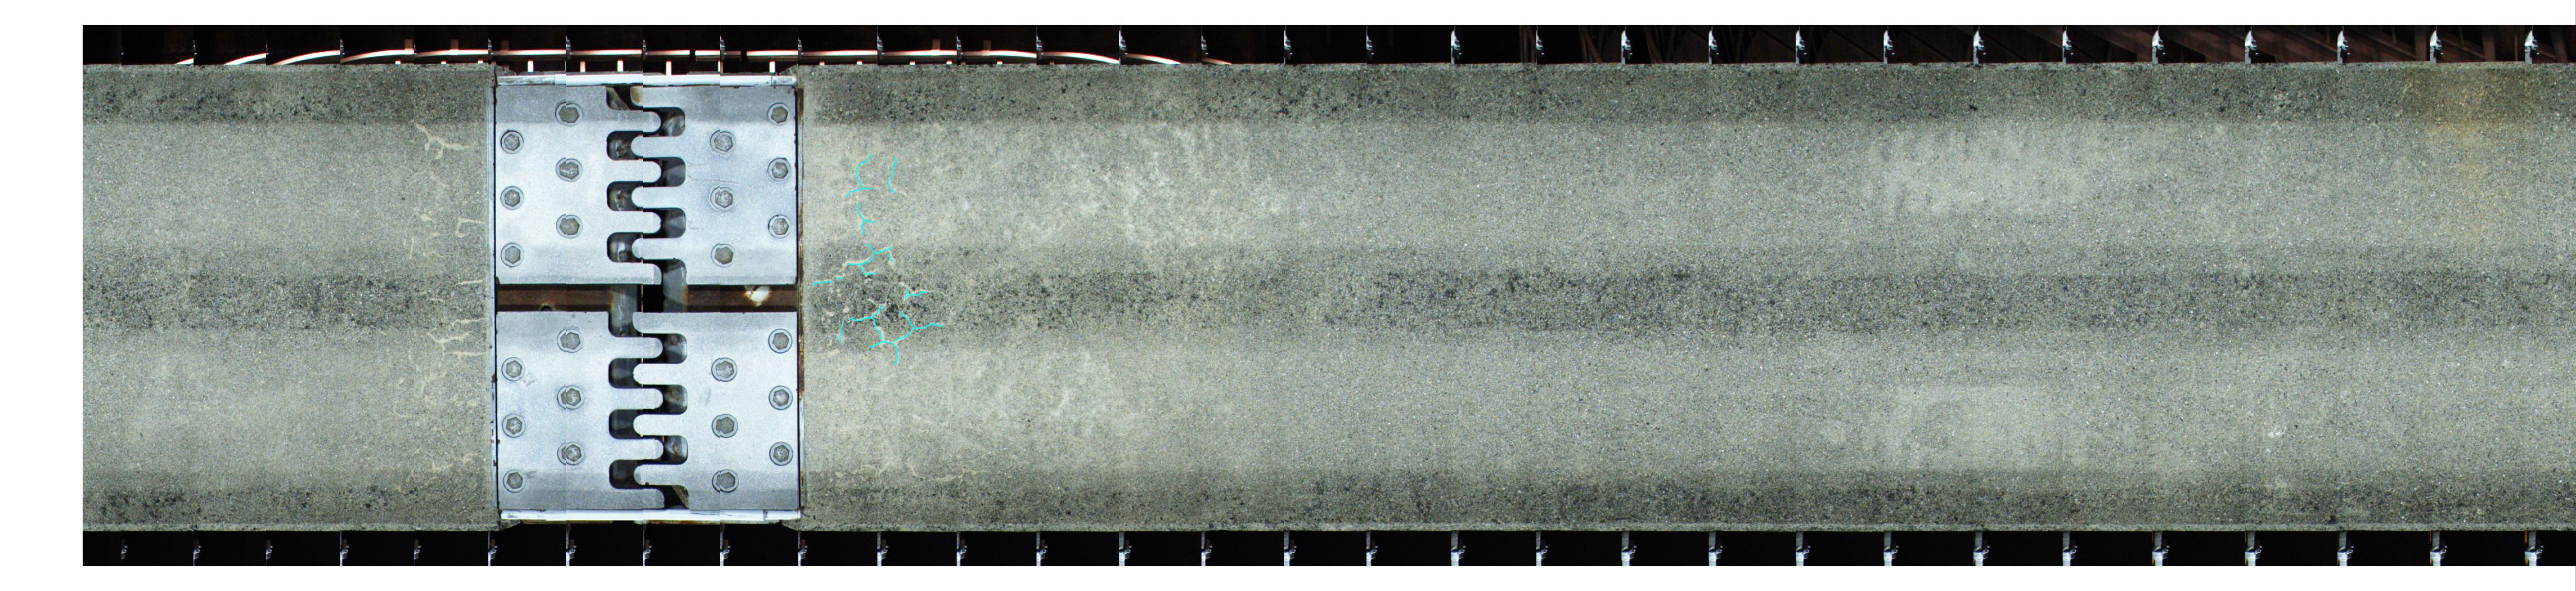concrete: (805, 69, 2576, 530), (82, 67, 494, 535)
